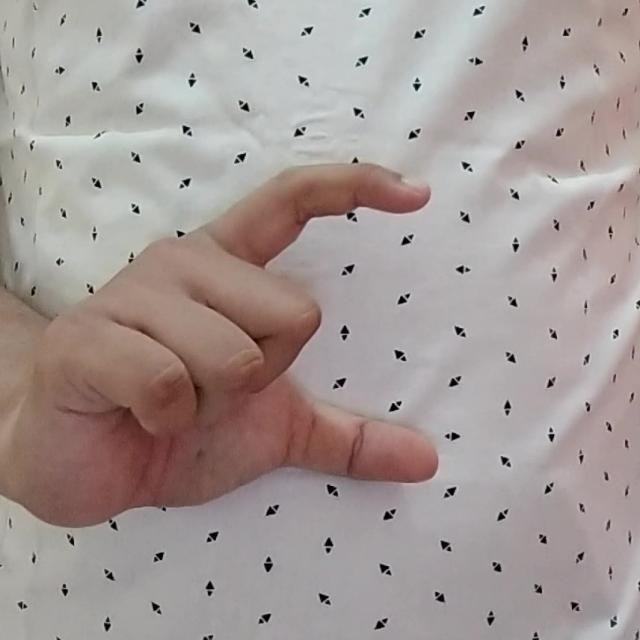C: (20, 154, 448, 532)
